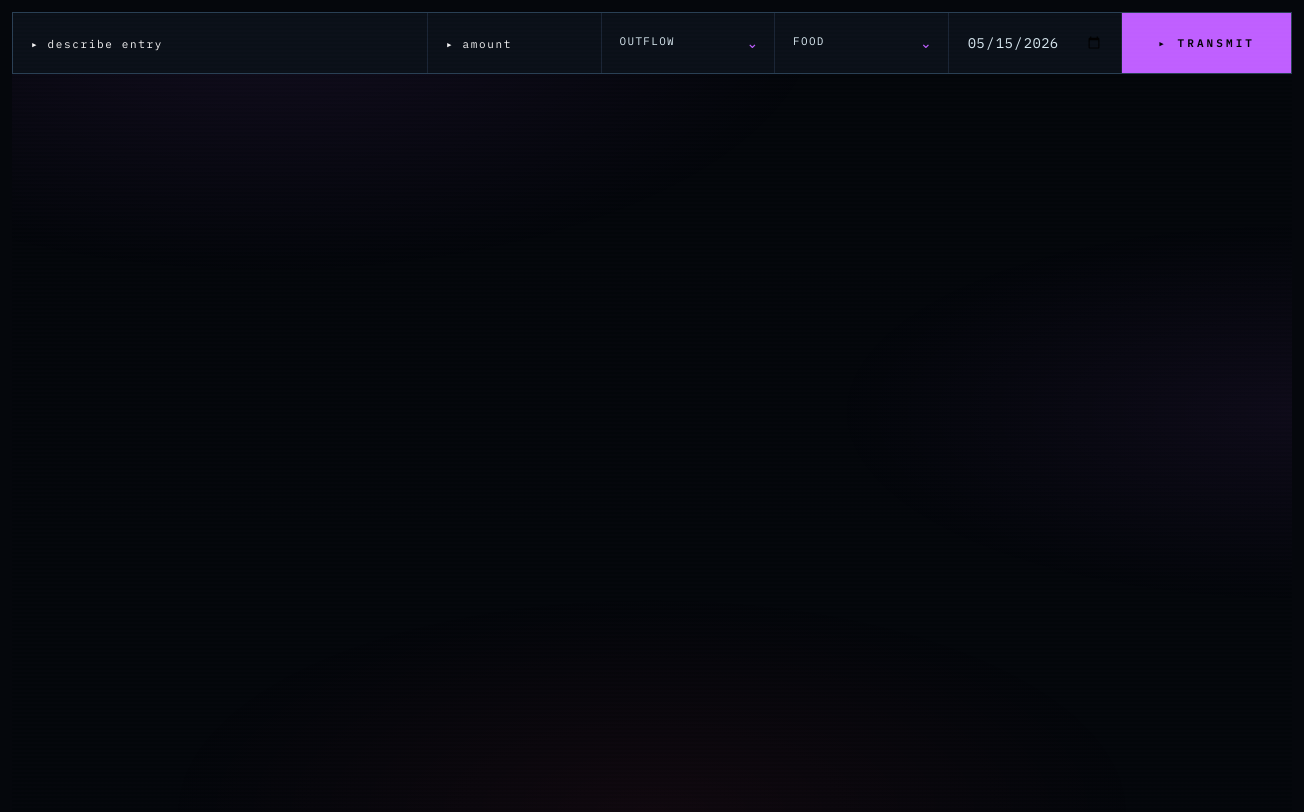
Test: TransactionForm › validation › shows amount error when amount is negative
Type "Coffee" into the field with placeholder "▸ describe entry" at (220, 43), box [13,13,427,73]
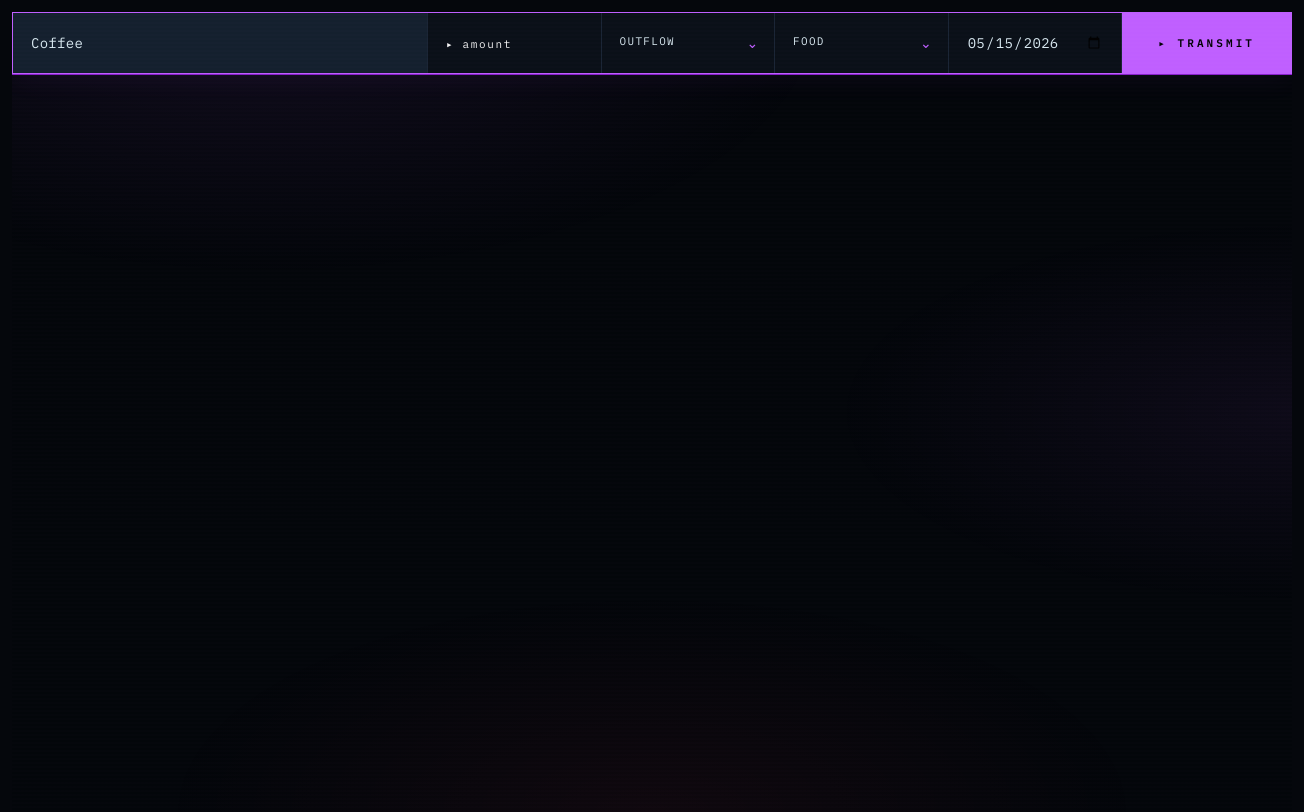
Type "-10" into the number field with placeholder "▸ amount" at (514, 43), box [428,13,601,73]
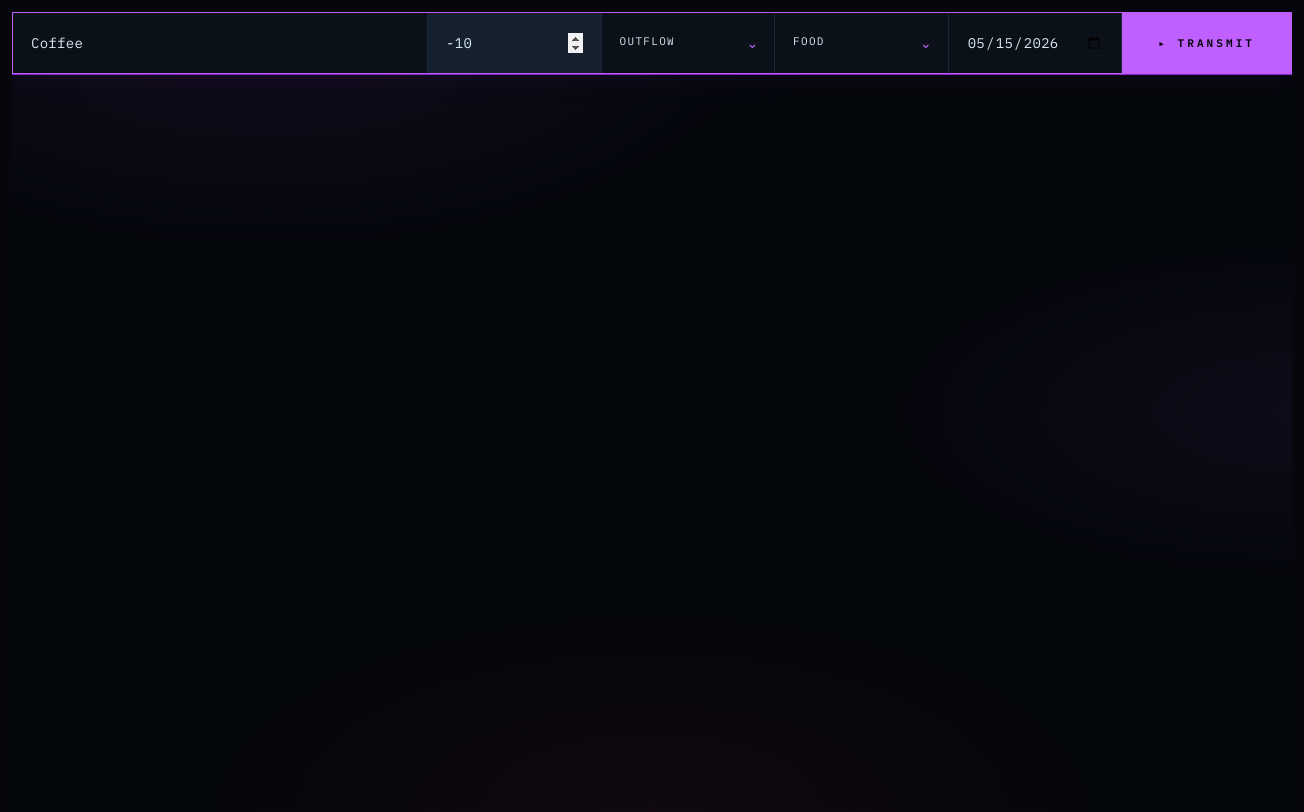
Click the button "▸ Transmit" at (1207, 43), box [1122,13,1291,73]
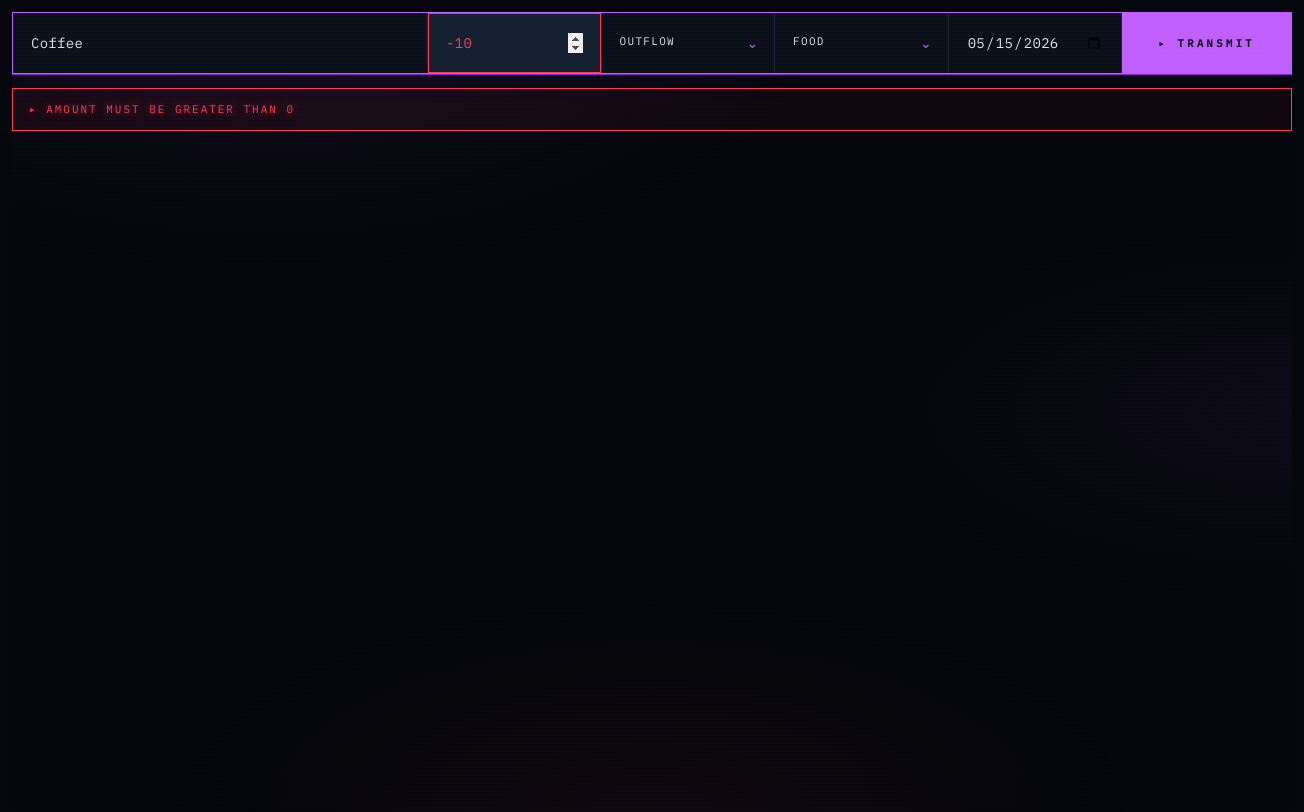
Now the text "▸ Amount must be greater than 0" is shown, box [29,102,295,116]
